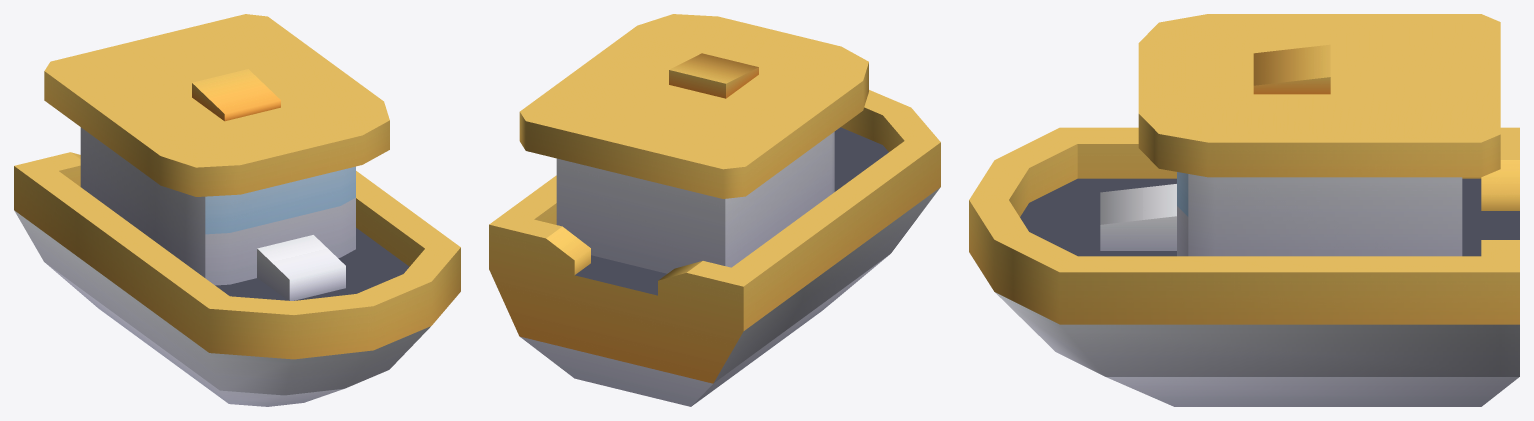
File: boat-tug-c-transformed.glb
The picture shows the model from 3 angles, left to right: view 1: azimuth 30°, elevation 25°; view 2: azimuth 150°, elevation 25°; view 3: azimuth 270°, elevation 25°; orthographic projection. The views are drawn at different scales.
Parts seen in each view (by area): view 1: boat-tug-c; view 2: boat-tug-c; view 3: boat-tug-c.
Part boxes in pixels (box(x1,y1,x2,y2)): boat-tug-c: box(14, 14, 460, 406); boat-tug-c: box(489, 14, 940, 406); boat-tug-c: box(969, 14, 1519, 406).
Size of the model in its own units: 1.78 by 1.8 by 2.87.
1 material, 1 textured.
